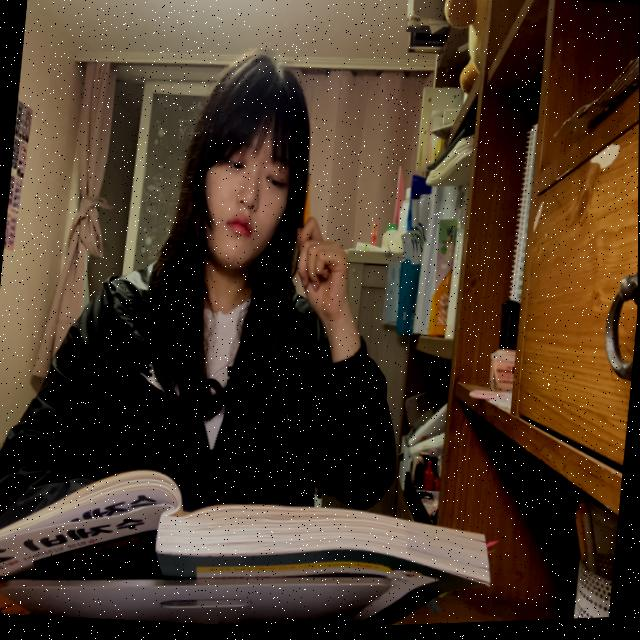studying-person: (0, 14, 545, 640)
